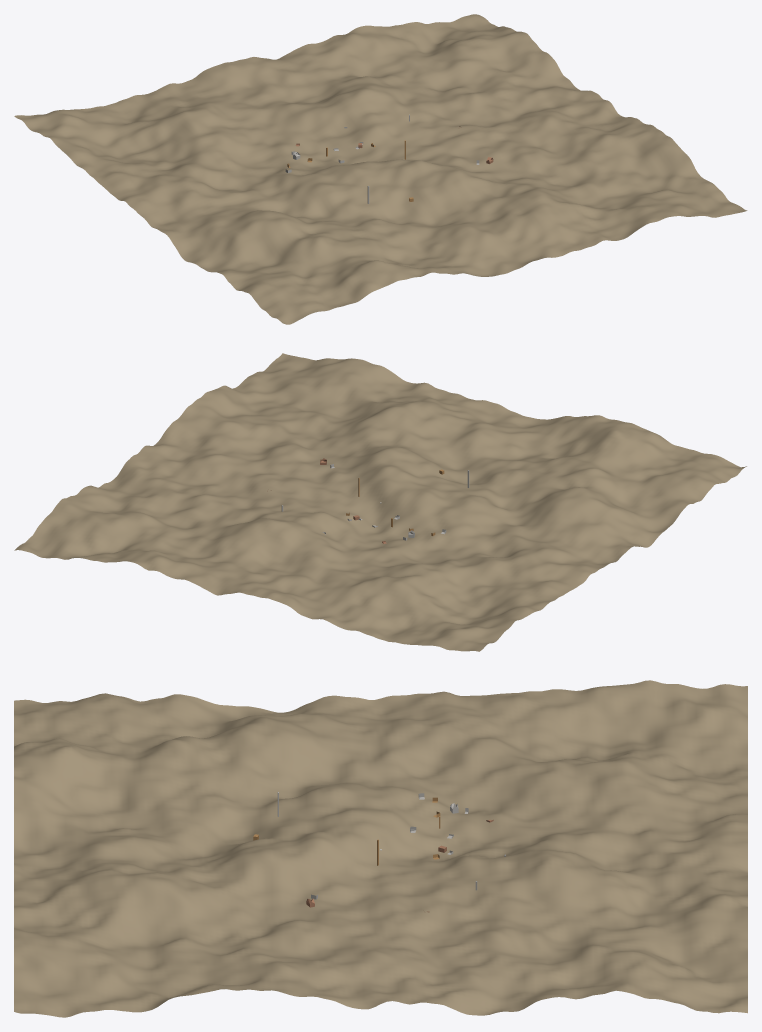
Rendered from wasteland_verify.glb.
3 views of the same model, one above another, from view 1: azimuth 30°, elevation 25°; view 2: azimuth 150°, elevation 25°; view 3: azimuth 270°, elevation 25° (orthographic). The views are drawn at different scales.
Parts seen in each view (by area): view 1: Wasteland_Terrain; view 2: Wasteland_Terrain; view 3: Wasteland_Terrain.
Part boxes in pixels (box(x1,y1,x2,y2)): Wasteland_Terrain: box(14, 14, 747, 324); Wasteland_Terrain: box(14, 353, 746, 651); Wasteland_Terrain: box(14, 680, 747, 1017).
Bounding box in the file's own units: 1000 × 64.84 × 1000.
